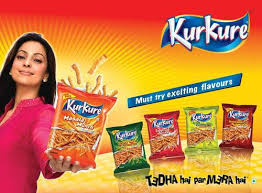kurkure: (166, 18, 244, 61), (69, 96, 103, 124), (147, 119, 182, 128), (194, 111, 216, 124), (111, 134, 136, 143)
plastic: (56, 88, 102, 166), (145, 114, 187, 159), (110, 128, 146, 180), (190, 107, 220, 155)
wrapper: (47, 83, 125, 181), (108, 123, 182, 170), (176, 104, 217, 156), (221, 102, 256, 154)
